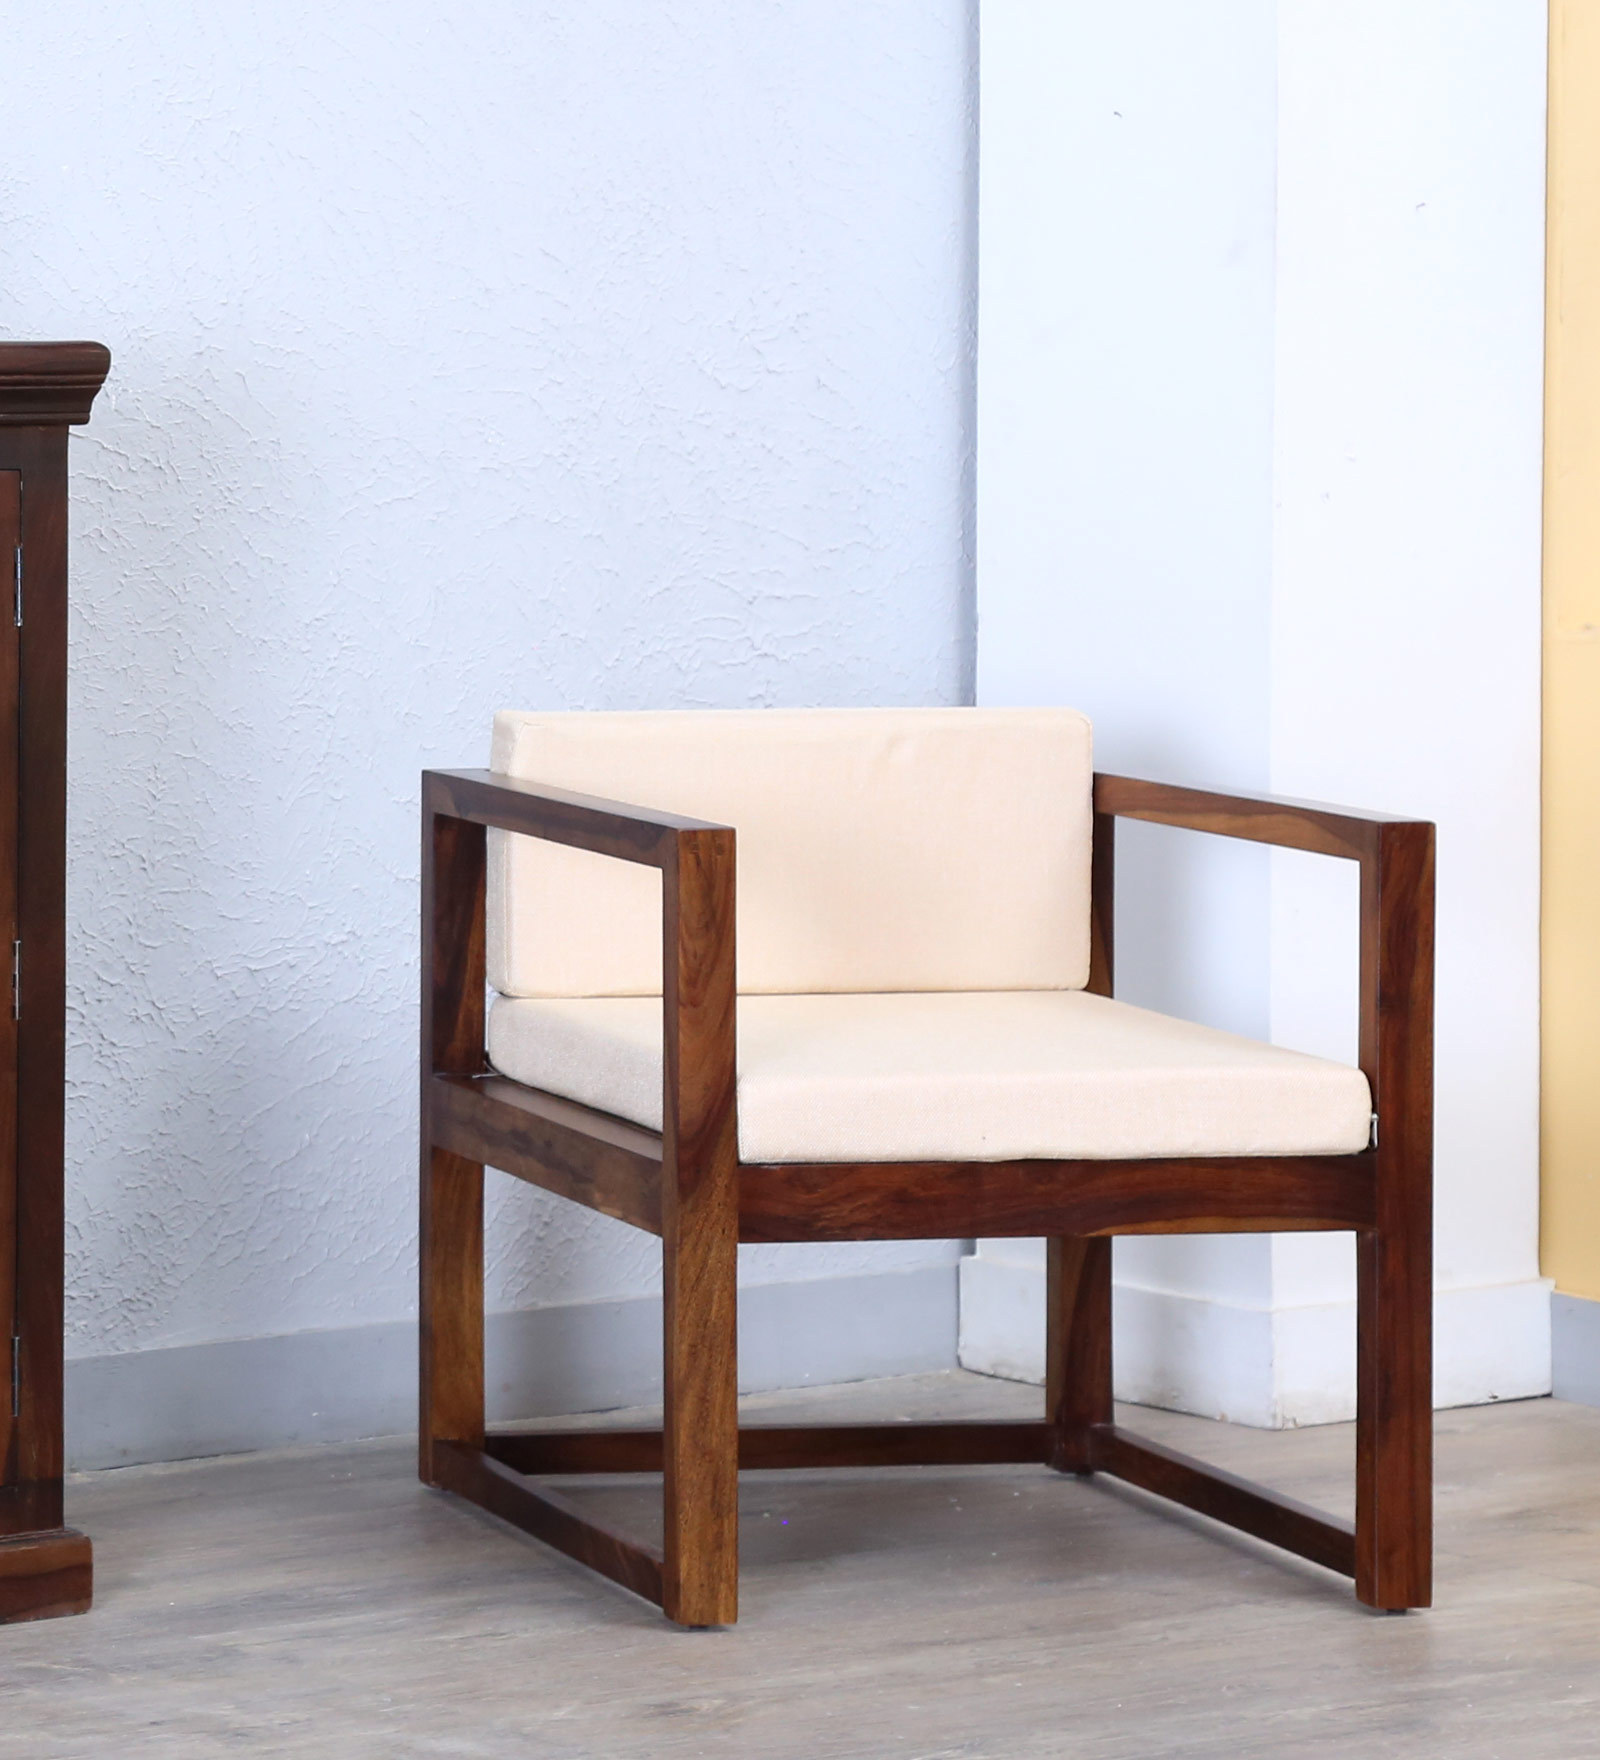Avian Arm Chair in Provincial Teak Finish by Woodsworth: (365, 681, 1471, 1674)
